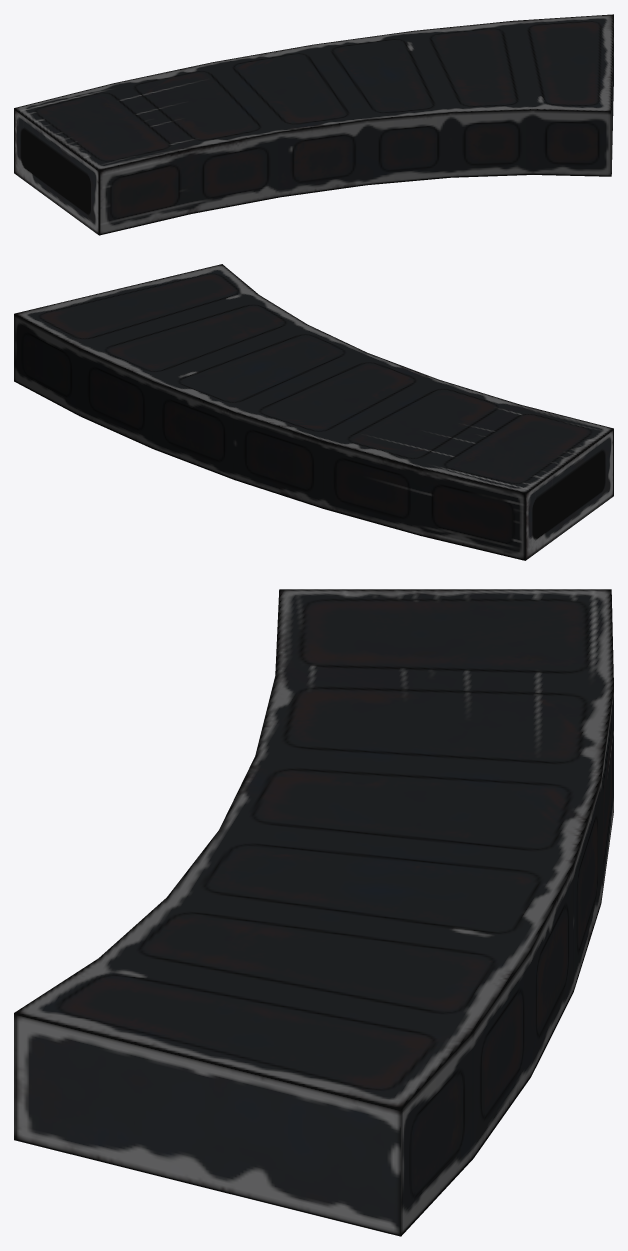
The model's file is GalilACE_Mag.fbx.
3 views of the same model, one above another, from view 1: azimuth 30°, elevation 25°; view 2: azimuth 150°, elevation 25°; view 3: azimuth 270°, elevation 25° (orthographic). The views are drawn at different scales.
Parts seen in each view (by area): view 1: GalilACE_Mag; view 2: GalilACE_Mag; view 3: GalilACE_Mag.
Part boxes in pixels (box(x1,y1,x2,y2)): GalilACE_Mag: box(14, 14, 613, 235); GalilACE_Mag: box(14, 264, 613, 560); GalilACE_Mag: box(14, 589, 613, 1236).
Bounding box in the file's own units: 239 × 27.2 × 116.
